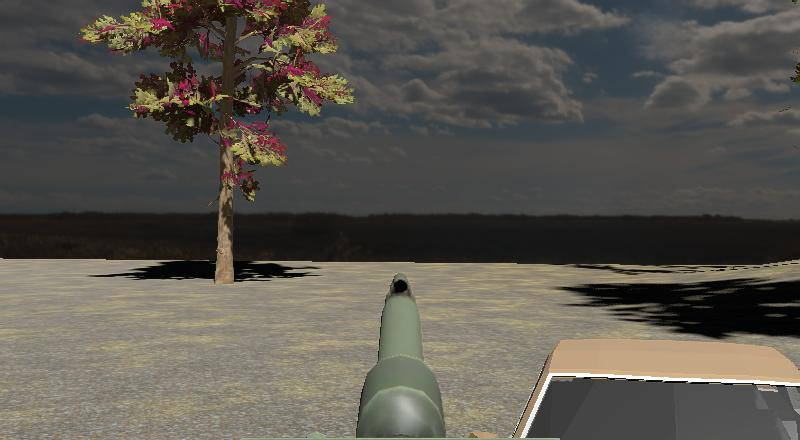car: (403, 337, 794, 440)
